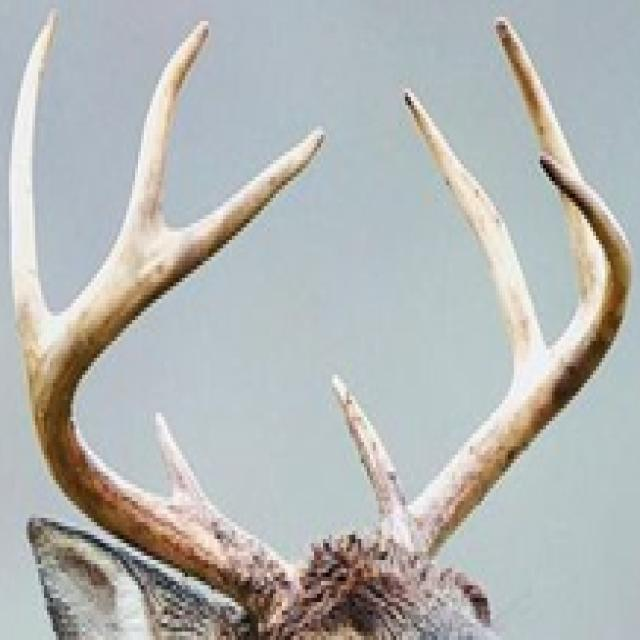L-F: (376, 149, 637, 563)
L-G1: (330, 371, 408, 527)
L-G2: (400, 84, 545, 383)
R-F: (23, 126, 326, 633)
R-G1: (152, 410, 214, 508)
R-G2: (9, 9, 62, 369)
R-G3: (123, 18, 213, 233)
